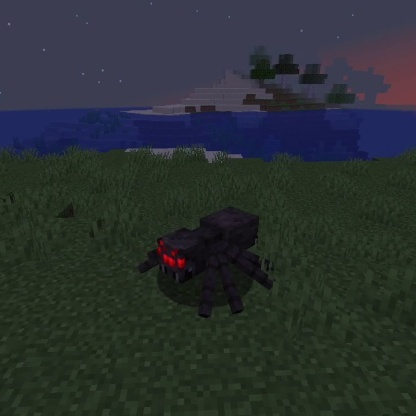spider: (136, 203, 277, 321)
